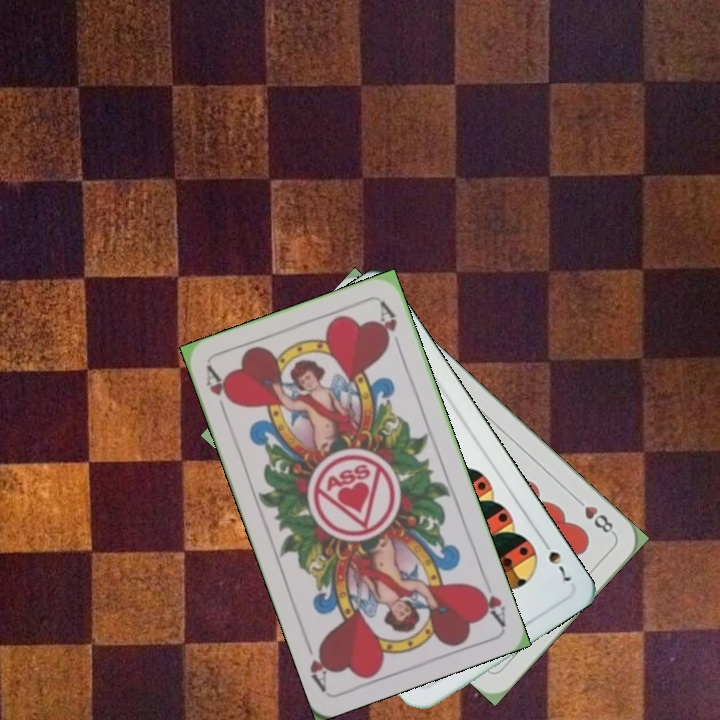H8: (570, 493, 618, 538)
HA: (201, 362, 236, 420), (471, 580, 509, 628)
S7: (537, 533, 574, 585)
